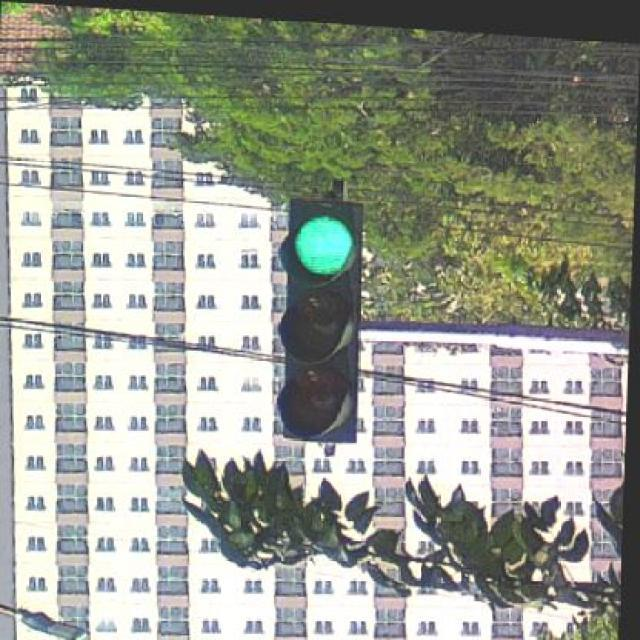traffic light: (276, 197, 363, 444)
